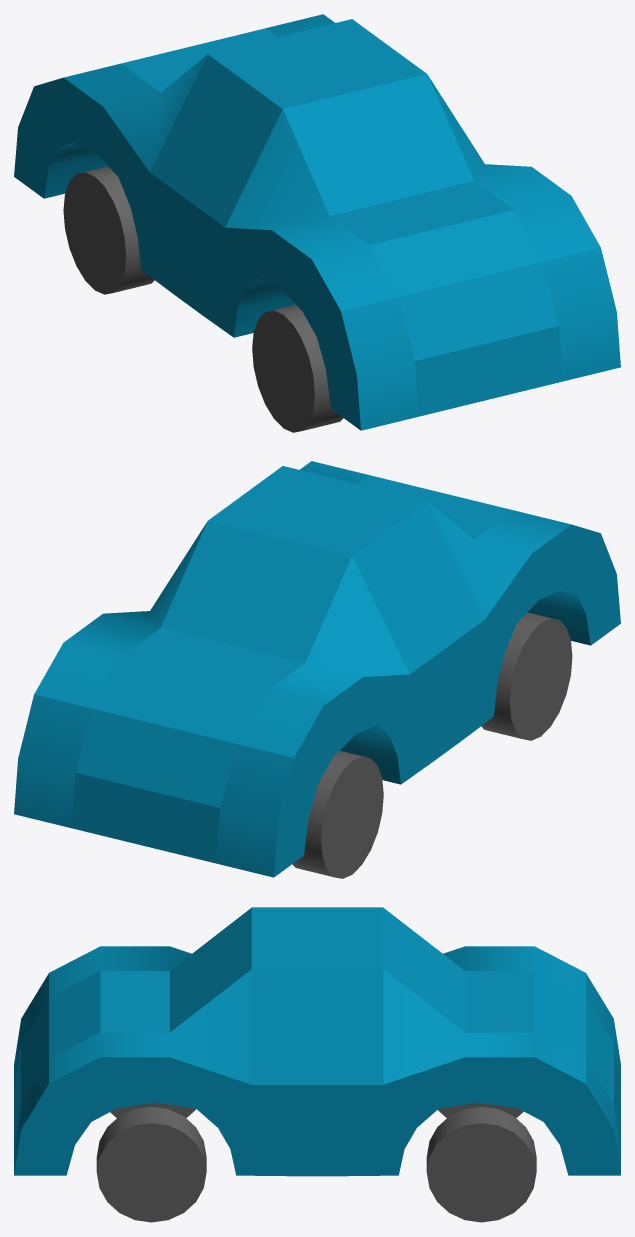
Rendered from shabia_car.glb.
The picture shows the model from 3 angles, top to bottom: view 1: azimuth 30°, elevation 25°; view 2: azimuth 150°, elevation 25°; view 3: azimuth 270°, elevation 25°; orthographic projection. The views are drawn at different scales.
Parts seen in each view (by area): view 1: polySurface12, pCylinder1, pCylinder2; view 2: polySurface12, pCylinder2, pCylinder1; view 3: polySurface12, pCylinder3, pCylinder4, pCylinder2, pCylinder1.
Boxes of the visible parts, x1,y1,x2,y2 form: polySurface12: (14,14,620,430); pCylinder1: (252,304,343,432); pCylinder2: (63,166,154,294); polySurface12: (14,461,620,877); pCylinder2: (292,751,383,878); pCylinder1: (481,612,572,740); polySurface12: (14,907,620,1176); pCylinder3: (96,1106,206,1222); pCylinder4: (426,1106,536,1222); pCylinder2: (438,1102,523,1118); pCylinder1: (110,1102,195,1118).
Size of the model in its own units: 0.9566 by 0.9268 by 2.21.
